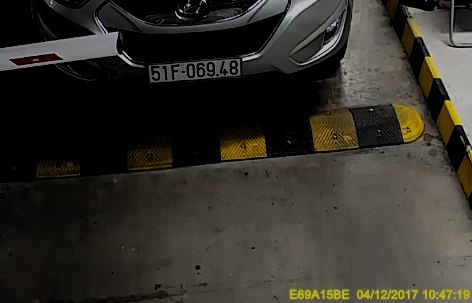plate: (145, 56, 242, 84)
